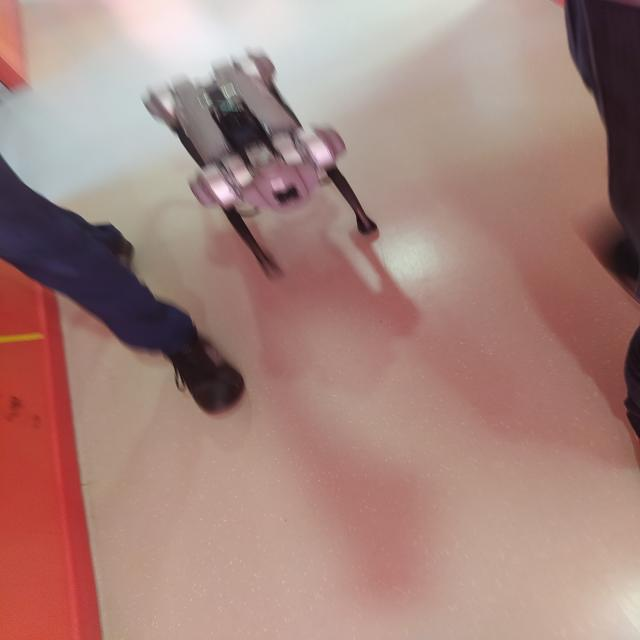unitree-go1-robot: (133, 38, 399, 287)
